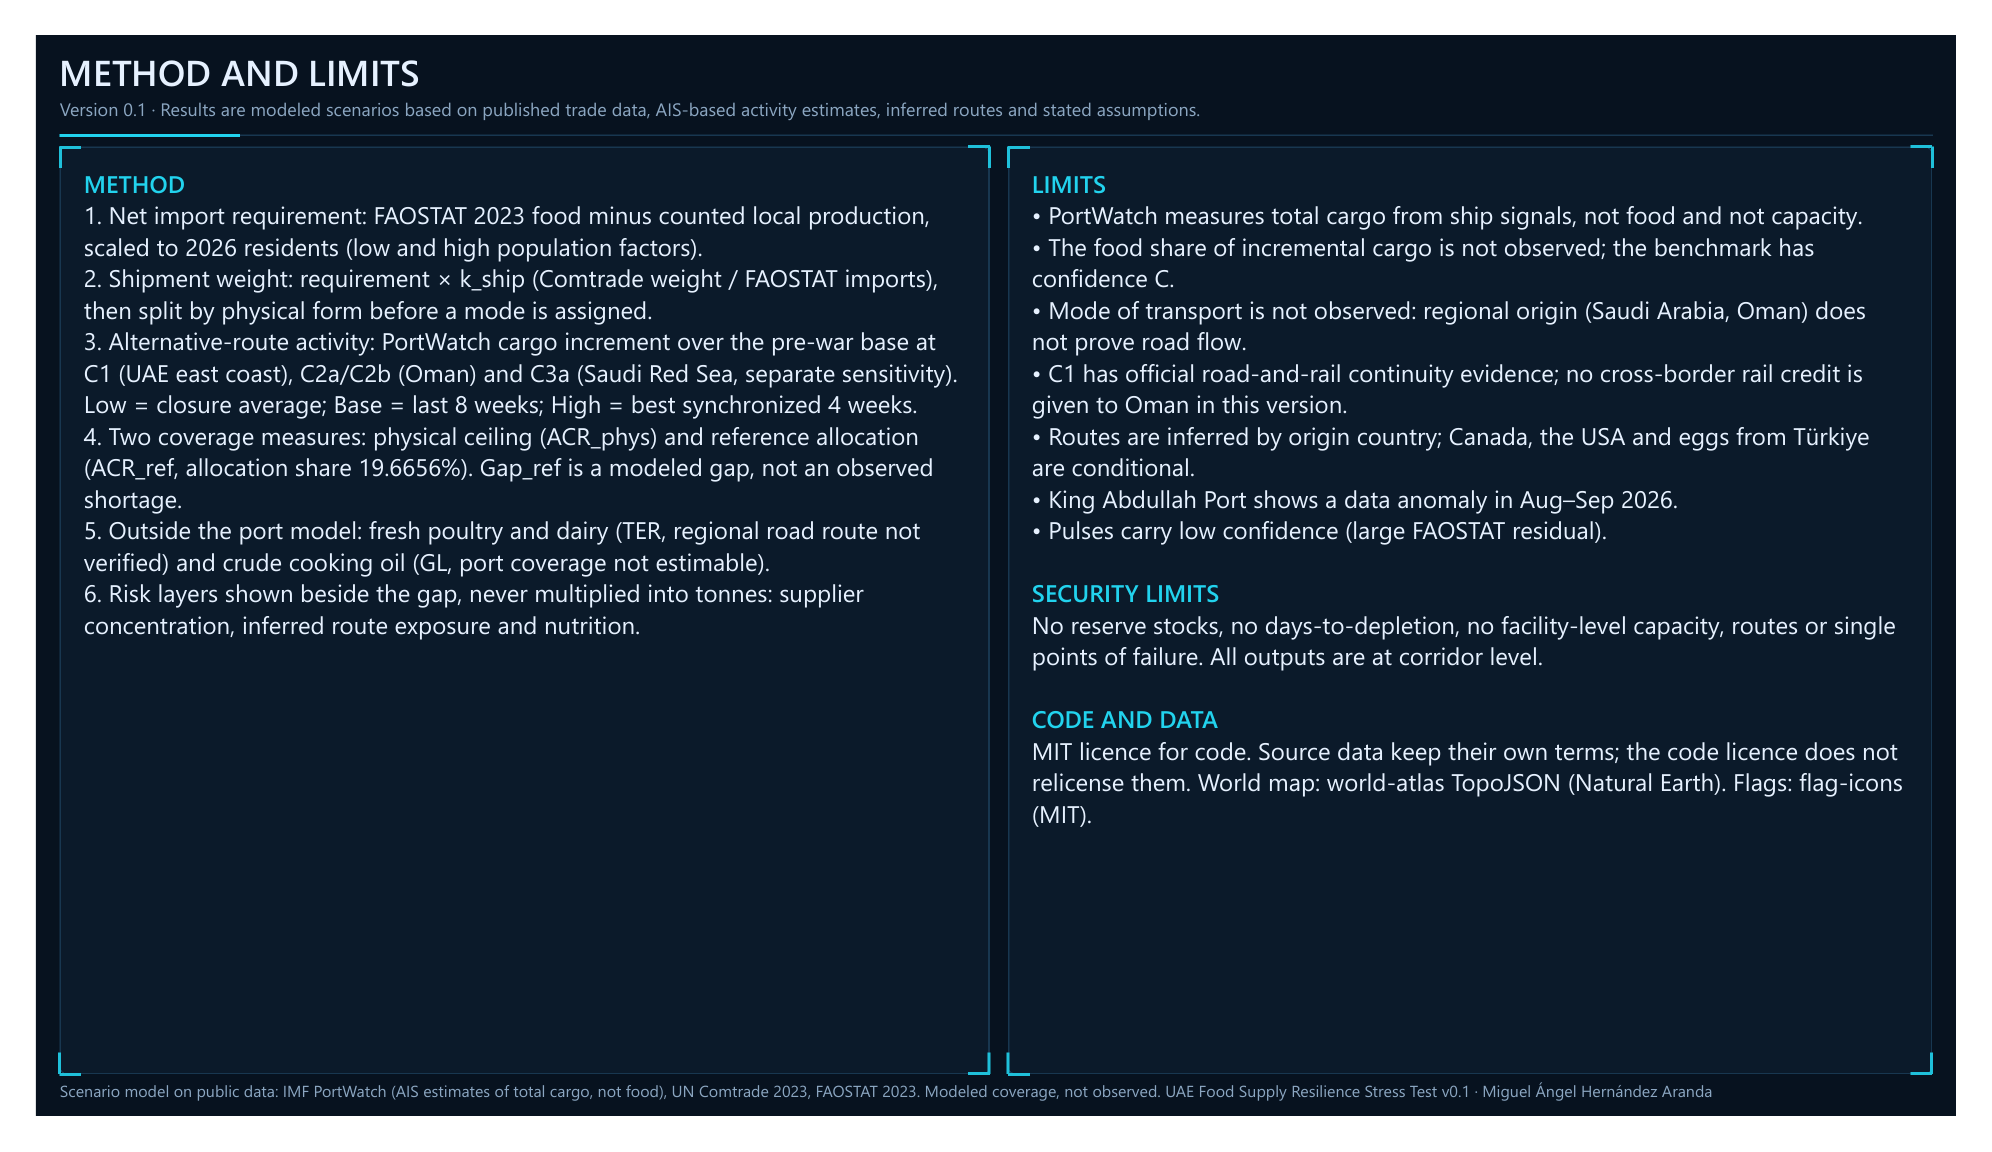

The dashboard page shown, as its layout file describes it:
{"tool":"powerbi","page":{"name":"Method and limits","canvas":[1280,720],"ordinal":6},"visuals":[{"type":"textbox","box":[16,8,1240,34],"z":0},{"type":"textbox","box":[16,40,1240,22],"z":1000},{"type":"textbox","box":[16,694,1248,24],"z":2000},{"type":"textbox","box":[32,88,588,588],"z":3000},{"type":"textbox","box":[664,88,584,588],"z":4000}]}

Visuals, with their boxes in screenshot pixels (x1, y1, x2, y2), scaled from the page's 1280x720 canvas onto the 1992x1152 screenshot:
textbox: (x1=25, y1=13, x2=1955, y2=67)
textbox: (x1=25, y1=64, x2=1955, y2=99)
textbox: (x1=25, y1=1110, x2=1967, y2=1149)
textbox: (x1=50, y1=141, x2=965, y2=1082)
textbox: (x1=1033, y1=141, x2=1942, y2=1082)
